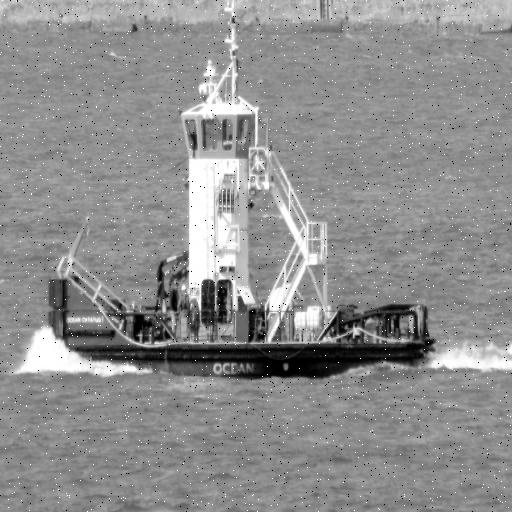tugboat: (44, 56, 442, 385)
